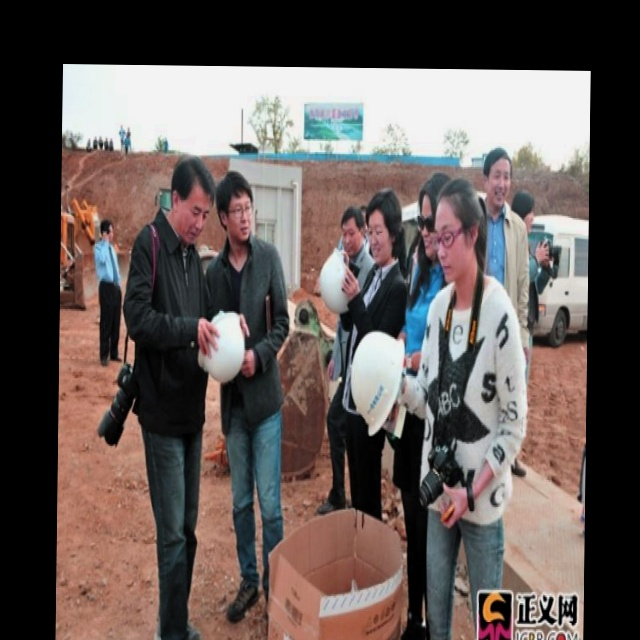Con_Casco: (350, 328, 405, 438), (195, 308, 247, 380)
Sin_Casco_Mascarrilla: (437, 175, 483, 283), (172, 156, 215, 243), (216, 171, 254, 238), (483, 147, 512, 204)
